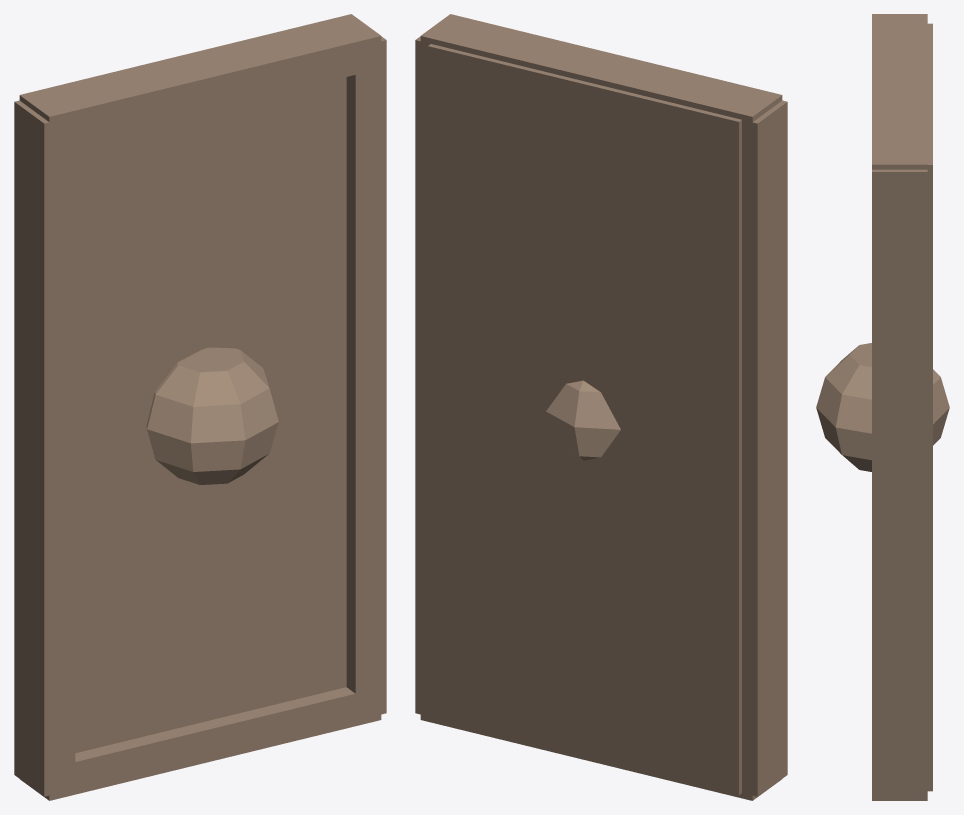
File: armor_shield_tower.glb
The picture shows the model from 3 angles, left to right: view 1: azimuth 30°, elevation 25°; view 2: azimuth 150°, elevation 25°; view 3: azimuth 270°, elevation 25°; orthographic projection. The views are drawn at different scales.
Parts seen in each view (by area): view 1: ArmorShieldTower_Node; view 2: ArmorShieldTower_Node; view 3: ArmorShieldTower_Node.
Part boxes in pixels (box(x1,y1,x2,y2)): ArmorShieldTower_Node: box(14, 14, 386, 800); ArmorShieldTower_Node: box(415, 14, 787, 800); ArmorShieldTower_Node: box(816, 14, 949, 800).
Bounding box in the file's own units: 0.33 × 0.63 × 0.12.
